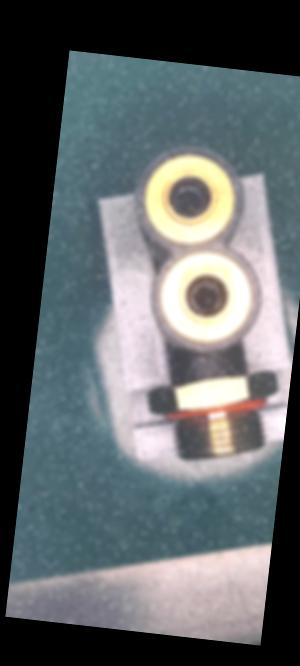craze: (206, 364, 220, 379)
